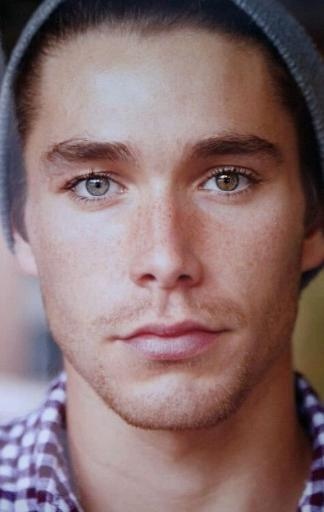left_eye: (194, 164, 267, 200)
left_lip_corner: (215, 320, 237, 345)
right_eye: (59, 170, 131, 205)
right_lip_corner: (109, 326, 136, 354)
